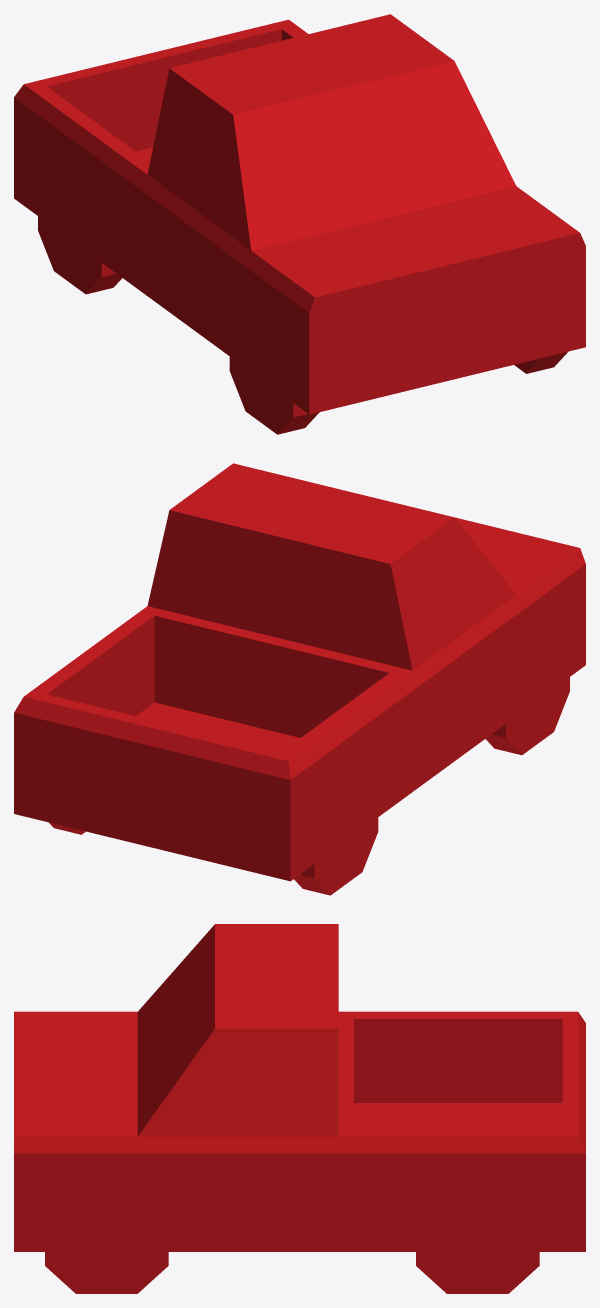
File: auto2.fbx
3 views of the same model, one above another, from view 1: azimuth 30°, elevation 25°; view 2: azimuth 150°, elevation 25°; view 3: azimuth 270°, elevation 25° (orthographic). The views are drawn at different scales.
Parts seen in each view (by area): view 1: Plane; view 2: Plane; view 3: Plane.
Part boxes in pixels (bbox=[...]): Plane: bbox=[14, 14, 585, 434]; Plane: bbox=[14, 463, 585, 895]; Plane: bbox=[14, 924, 585, 1293].
Size of the model in its own units: 240 by 216 by 444.
